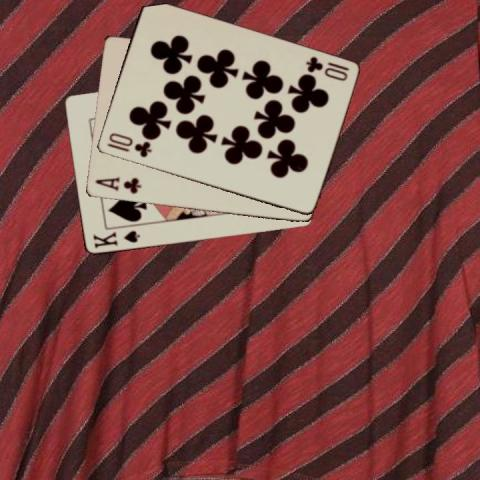10c: (103, 130, 153, 159), (302, 53, 350, 83)
Ac: (92, 174, 142, 195)
Ks: (90, 227, 141, 250)
